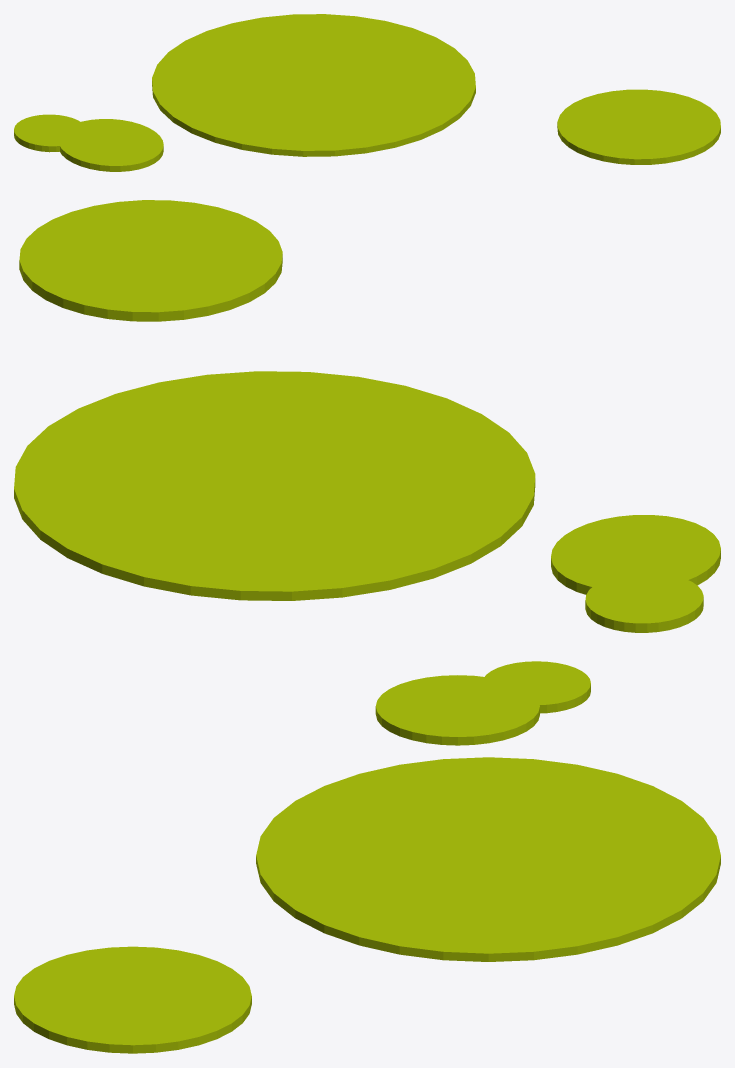
The model's file is paintsplat4.fbx.
3 views of the same model, one above another, from view 1: azimuth 30°, elevation 25°; view 2: azimuth 150°, elevation 25°; view 3: azimuth 270°, elevation 25° (orthographic). The views are drawn at different scales.
Visible parts, largest first — view 1: Cylinder; view 2: Cylinder; view 3: Cylinder.
Boxes of the visible parts, x1,y1,x2,y2 form: Cylinder: (14, 14, 720, 171); Cylinder: (14, 200, 720, 632); Cylinder: (14, 661, 720, 1053).
Bounding box in the file's own units: 191 × 1.96 × 149.
